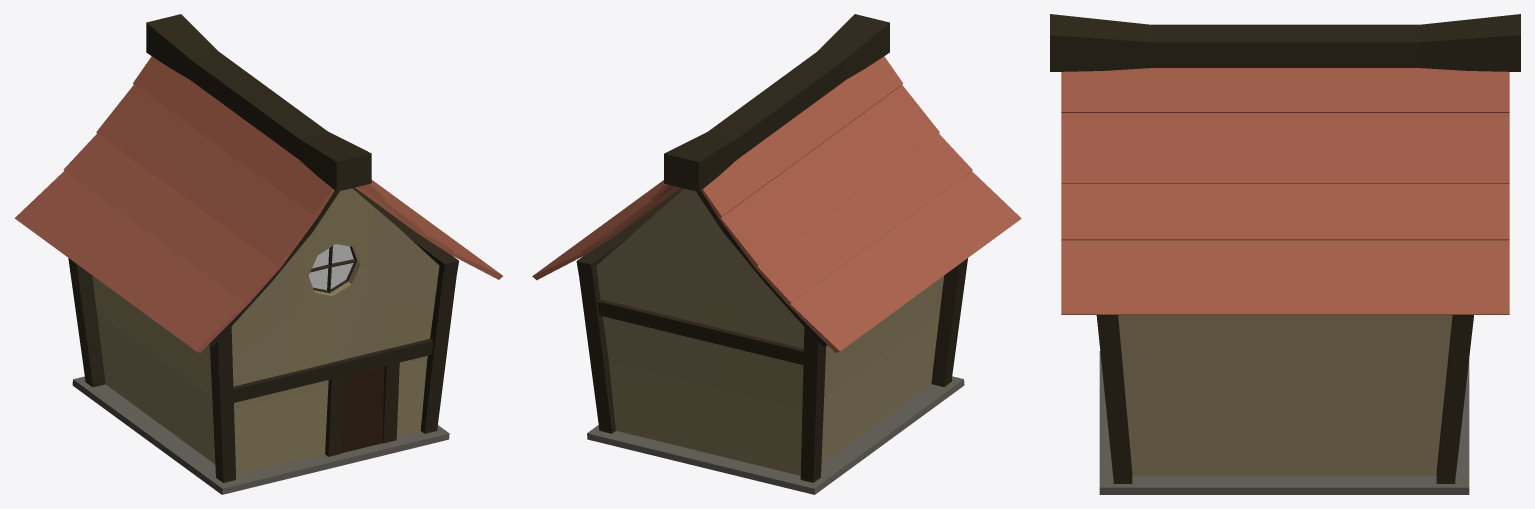
Rendered from rumah_1.fbx.
The picture shows the model from 3 angles, left to right: view 1: azimuth 30°, elevation 25°; view 2: azimuth 150°, elevation 25°; view 3: azimuth 270°, elevation 25°; orthographic projection. The views are drawn at different scales.
Visible parts, largest first — view 1: rumah_desa; view 2: rumah_desa; view 3: rumah_desa.
Boxes of the visible parts, <box> form: rumah_desa: <box>14,14,502,494</box>; rumah_desa: <box>532,14,1021,494</box>; rumah_desa: <box>1050,14,1520,494</box>.
Bounding box in the file's own units: 156 × 157 × 167.
